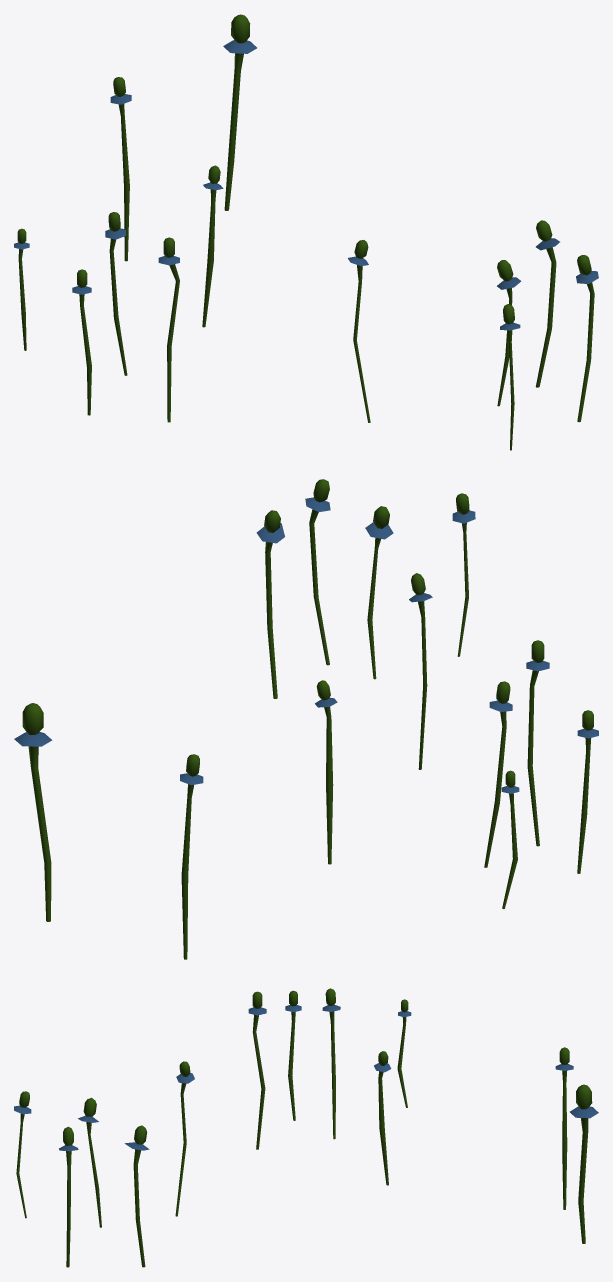
File: parsiTendrilSpikes04.FBX
The picture shows the model from 3 angles, top to bottom: view 1: azimuth 30°, elevation 25°; view 2: azimuth 150°, elevation 25°; view 3: azimuth 270°, elevation 25°; orthographic projection. The views are drawn at different scales.
Visible parts, largest first — view 1: parsiTendrilSpikes04_LOD0; view 2: parsiTendrilSpikes04_LOD0; view 3: parsiTendrilSpikes04_LOD0.
Boxes of the visible parts, x1=… form: parsiTendrilSpikes04_LOD0: x1=14, y1=14, x2=598, y2=450; parsiTendrilSpikes04_LOD0: x1=14, y1=479, x2=598, y2=959; parsiTendrilSpikes04_LOD0: x1=14, y1=988, x2=598, y2=1267.
Size of what is drawn, in the model's own units: 1.84 by 0.9201 by 2.75.
